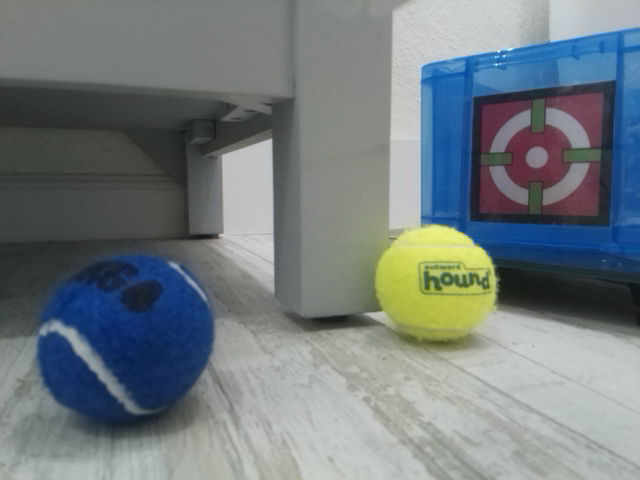blue-ball: (35, 252, 217, 430)
drop-bin: (469, 80, 615, 226)
yellow-ball: (374, 224, 499, 346)
